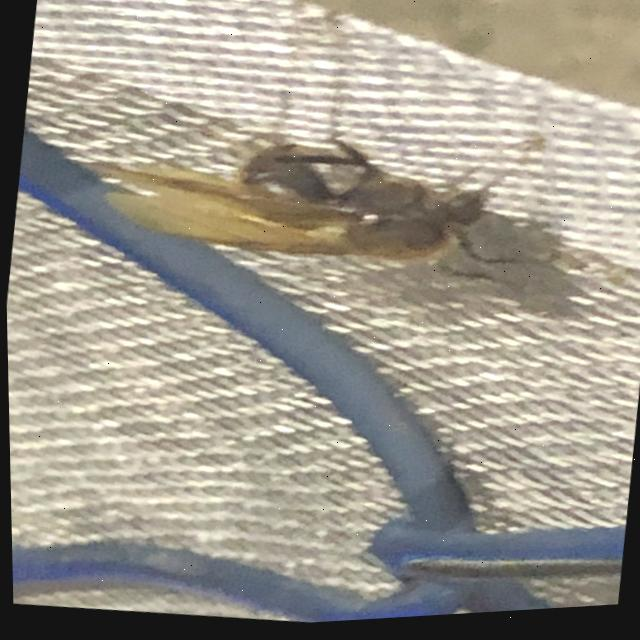Alive-Male-Alate: (61, 0, 589, 328)
